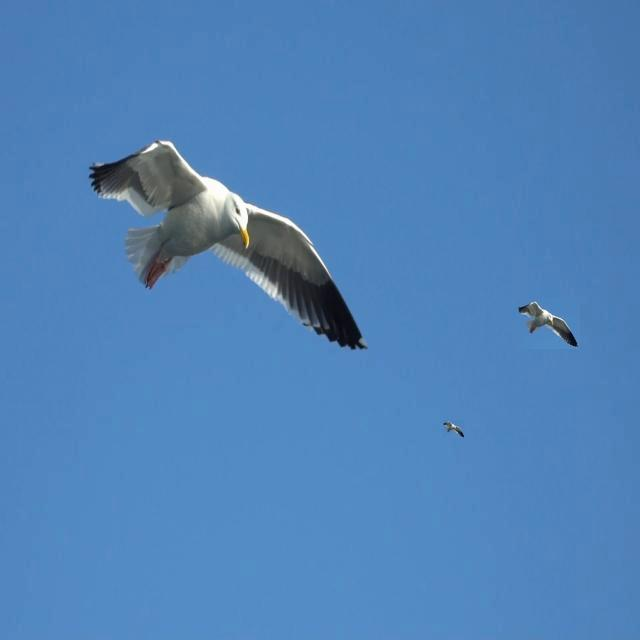bird: (81, 133, 373, 355), (517, 299, 579, 346), (443, 420, 464, 436)
